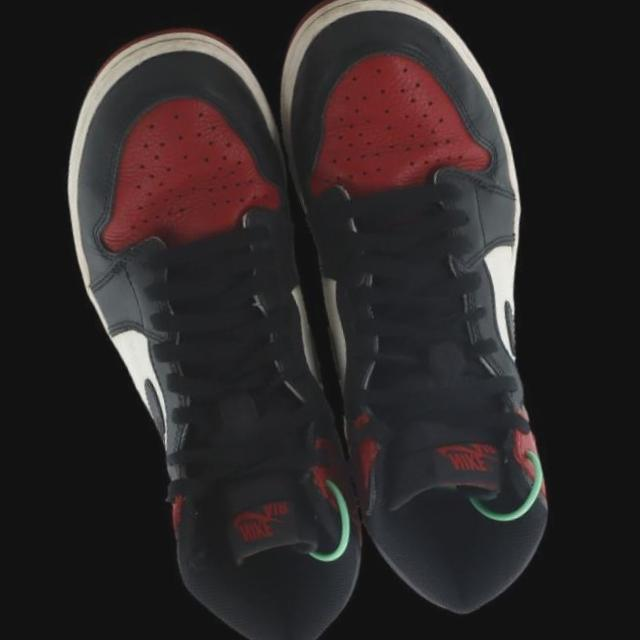nike_original_jordan: (22, 0, 399, 640), (246, 0, 618, 638)
